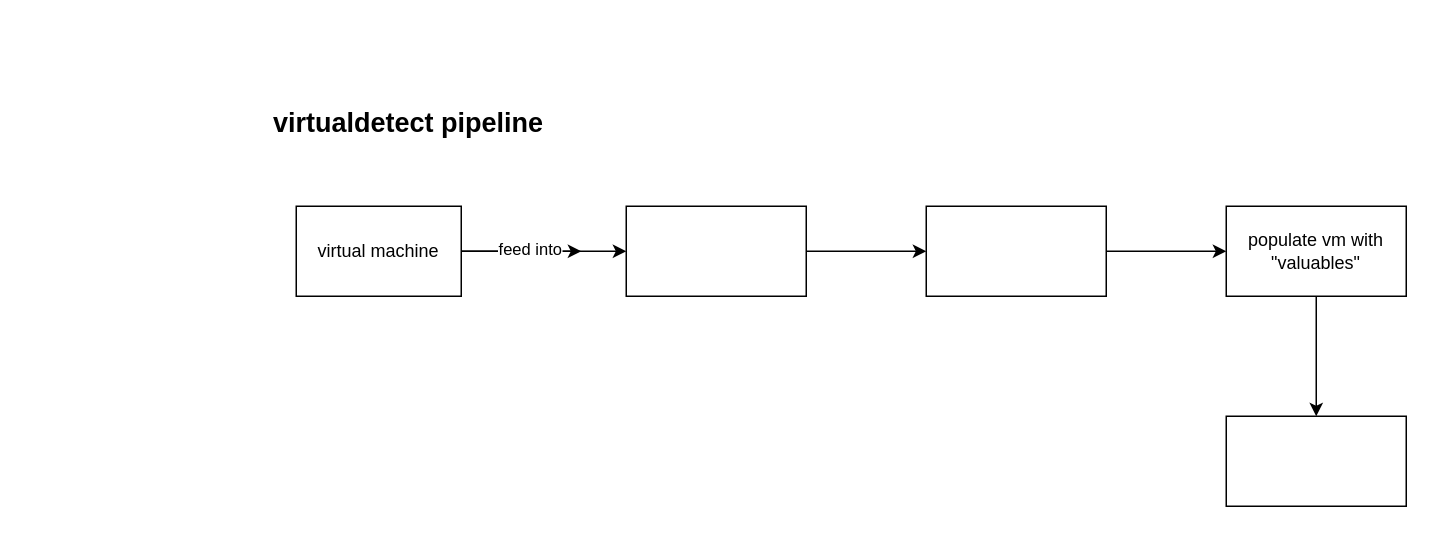
Image size: 1433x533. Some labels were removed from this diagram. The shapes that lost their labels are listed below. From the top down, each one's centre as x and y in pixels, then its label:
At point 715,250: "virtualization artifact detection".
At point 1015,250: "modify vm values and data".
